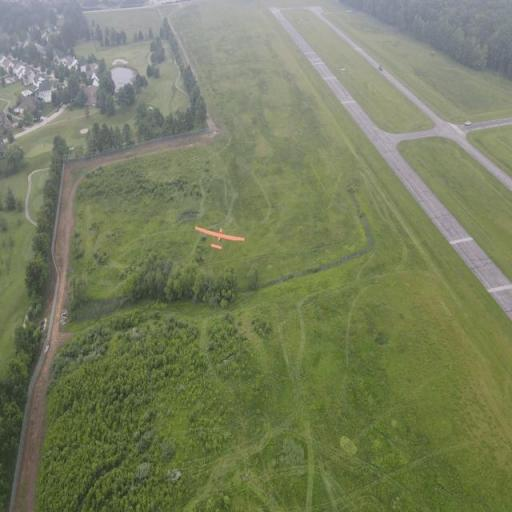uav: (190, 212, 254, 262)
